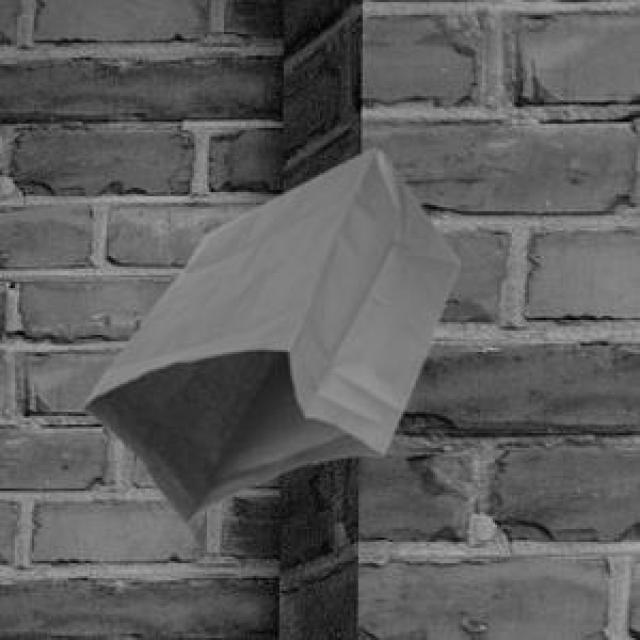paper: (79, 145, 454, 518)
